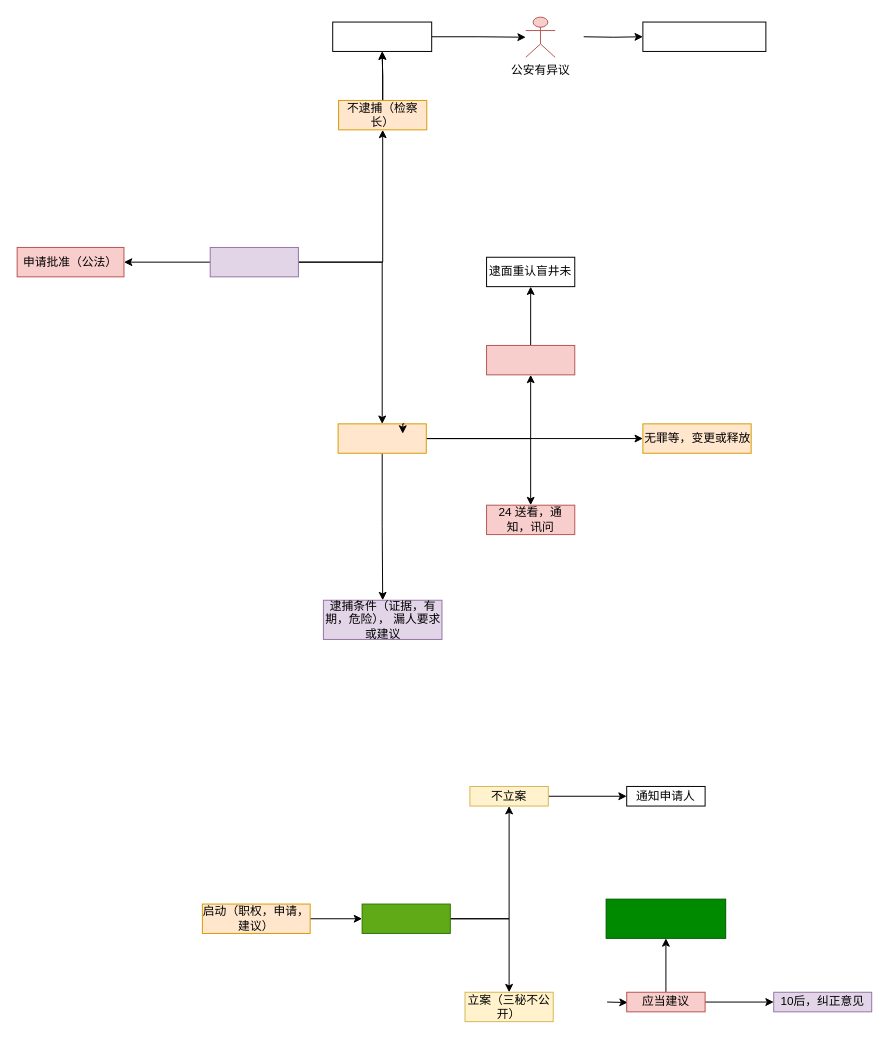
Some shapes in this 889 by 1039 pixel diagram are drawn without their labels. The shapes that lost their labels are listed below. From the top down, each one's centre as x and y in pixels, then its label:
the point at 382,36: 说理，补侦，退回
the point at 704,36: 复议复核（立刻释放）
the point at 253,261: 是否逮捕
the point at 530,359: 应当问
the point at 381,438: 逮捕
the point at 405,918: 是否立案（正副监察长））
the point at 665,918: 罪轻，不是有期，符合取，监局，期限届满。
